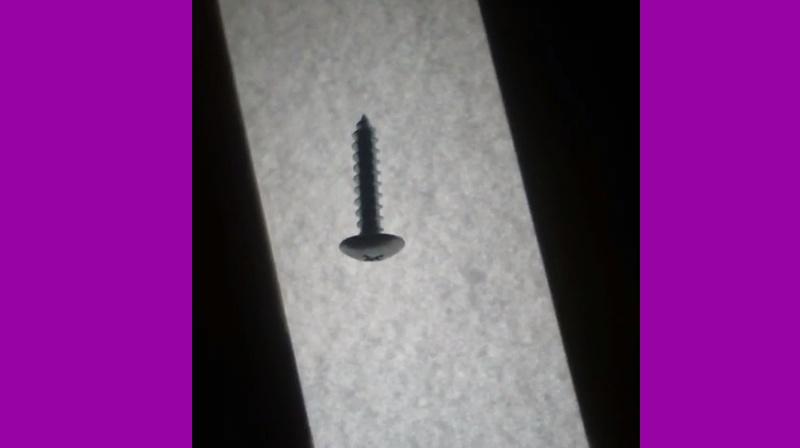S003: (335, 108, 406, 265)
